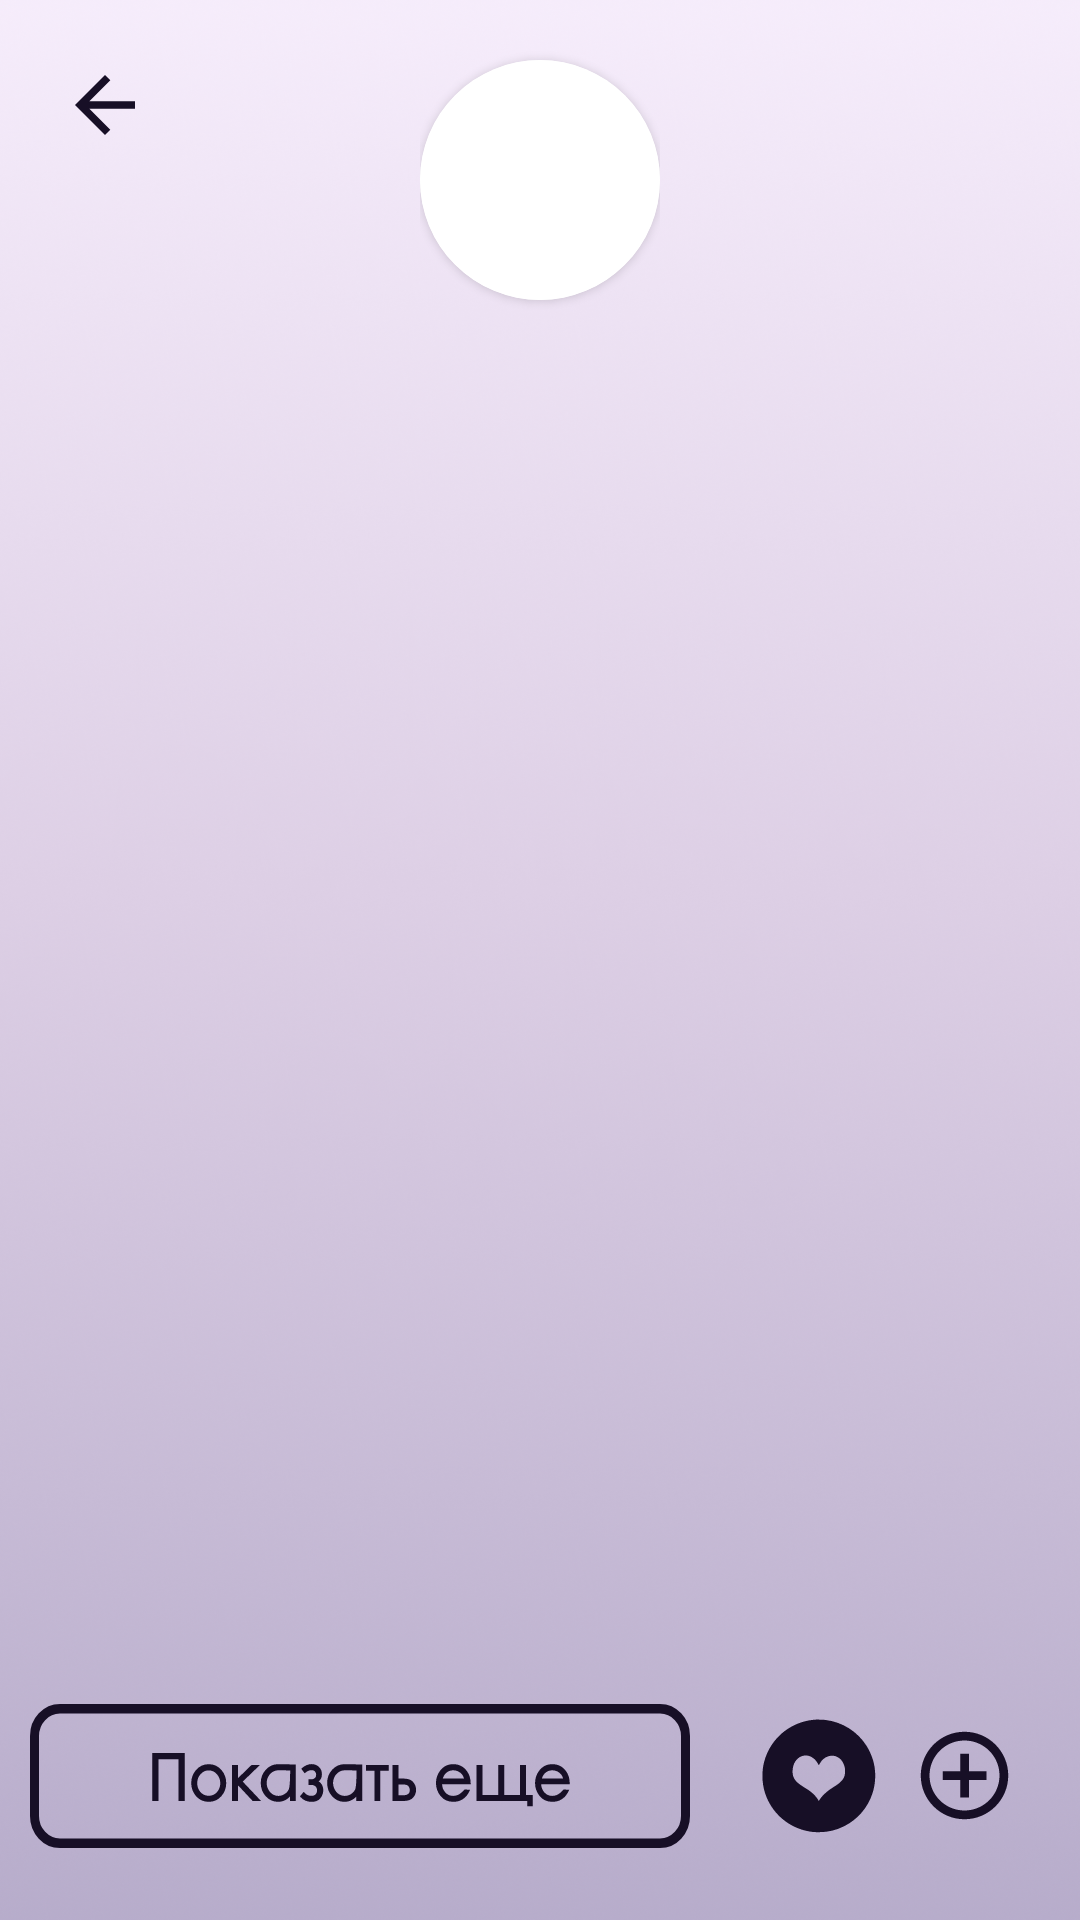

Icons on this 1080*1920 Android screen, each with the point to tap as [x,y]:
back: [105,105]
checkbox detailed poem add: [964,1775]
checkbox detailed poem like: [819,1776]
